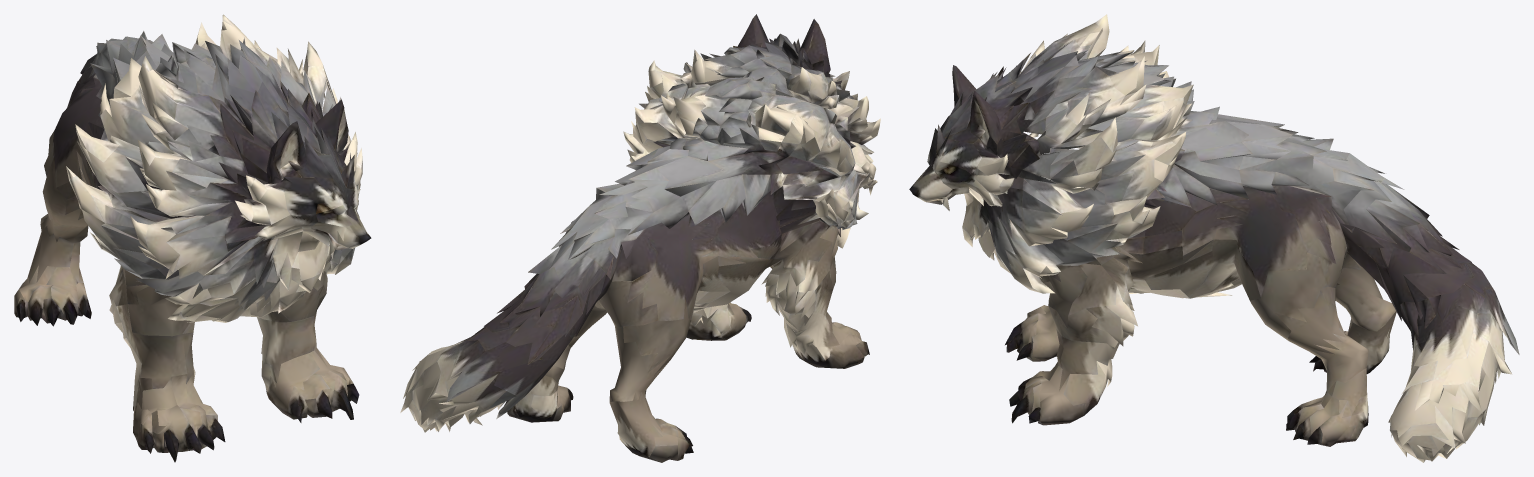
File: greyfang.glb
3 renders of one model, left to right at view 1: azimuth 30°, elevation 25°; view 2: azimuth 150°, elevation 25°; view 3: azimuth 270°, elevation 25°, orthographic. The views are drawn at different scales.
Bounding box in the file's own units: 1.15 × 1.17 × 1.9.
Materials: 1 (1 with a texture image).
